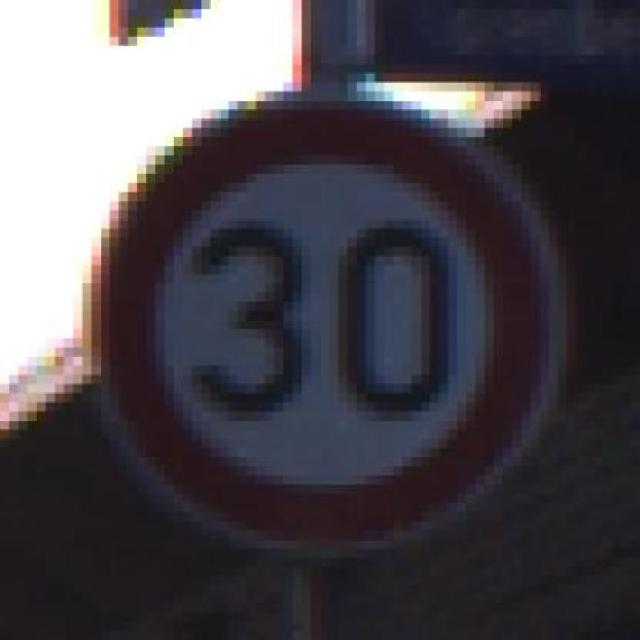Speed Limit 30 KMPh: (55, 101, 594, 576)
